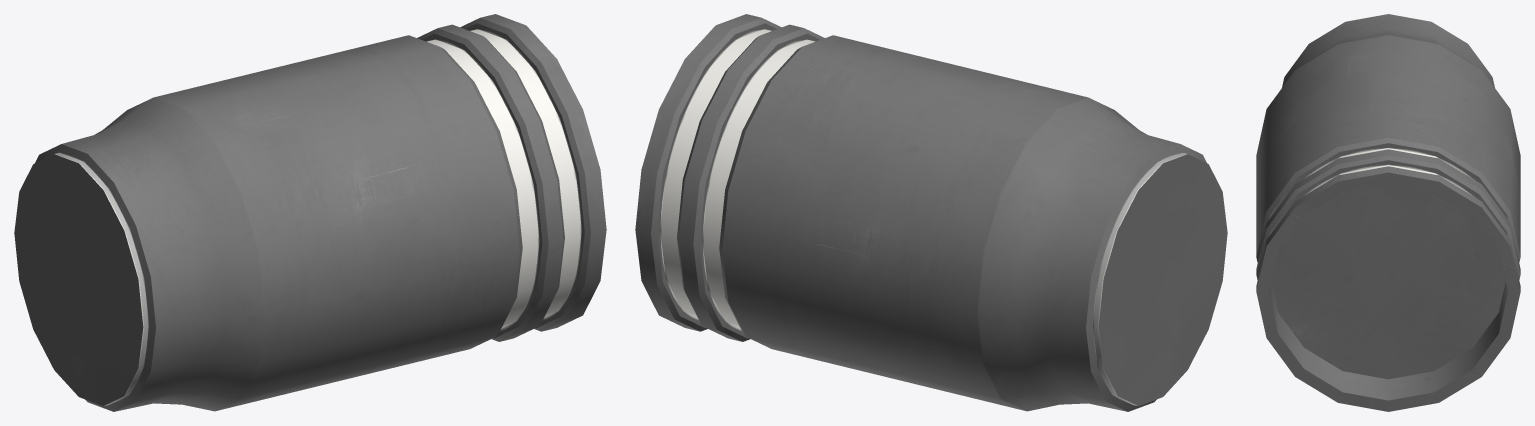
File: guard_14_c_a.glb
3 views of the same model, side by side, from view 1: azimuth 30°, elevation 25°; view 2: azimuth 150°, elevation 25°; view 3: azimuth 270°, elevation 25° (orthographic). The views are drawn at different scales.
Parts seen in each view (by area): view 1: guard_14_c_a_lod0; view 2: guard_14_c_a_lod0; view 3: guard_14_c_a_lod0.
Part boxes in pixels (x1,y1,x2,y2): guard_14_c_a_lod0: (14, 14, 606, 411); guard_14_c_a_lod0: (635, 14, 1227, 411); guard_14_c_a_lod0: (1256, 14, 1520, 411).
Size of what is drawn, in the model's own units: 0.0569 by 0.0354 by 0.0354.
1 material, 1 textured.
